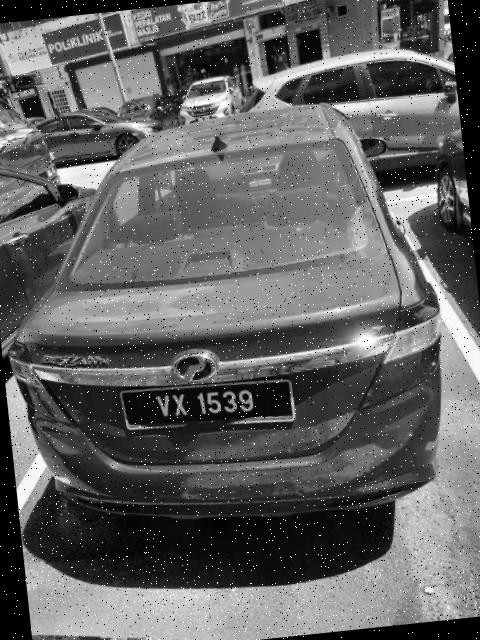License_Plate: (119, 373, 297, 442)
car: (1, 91, 462, 546)
